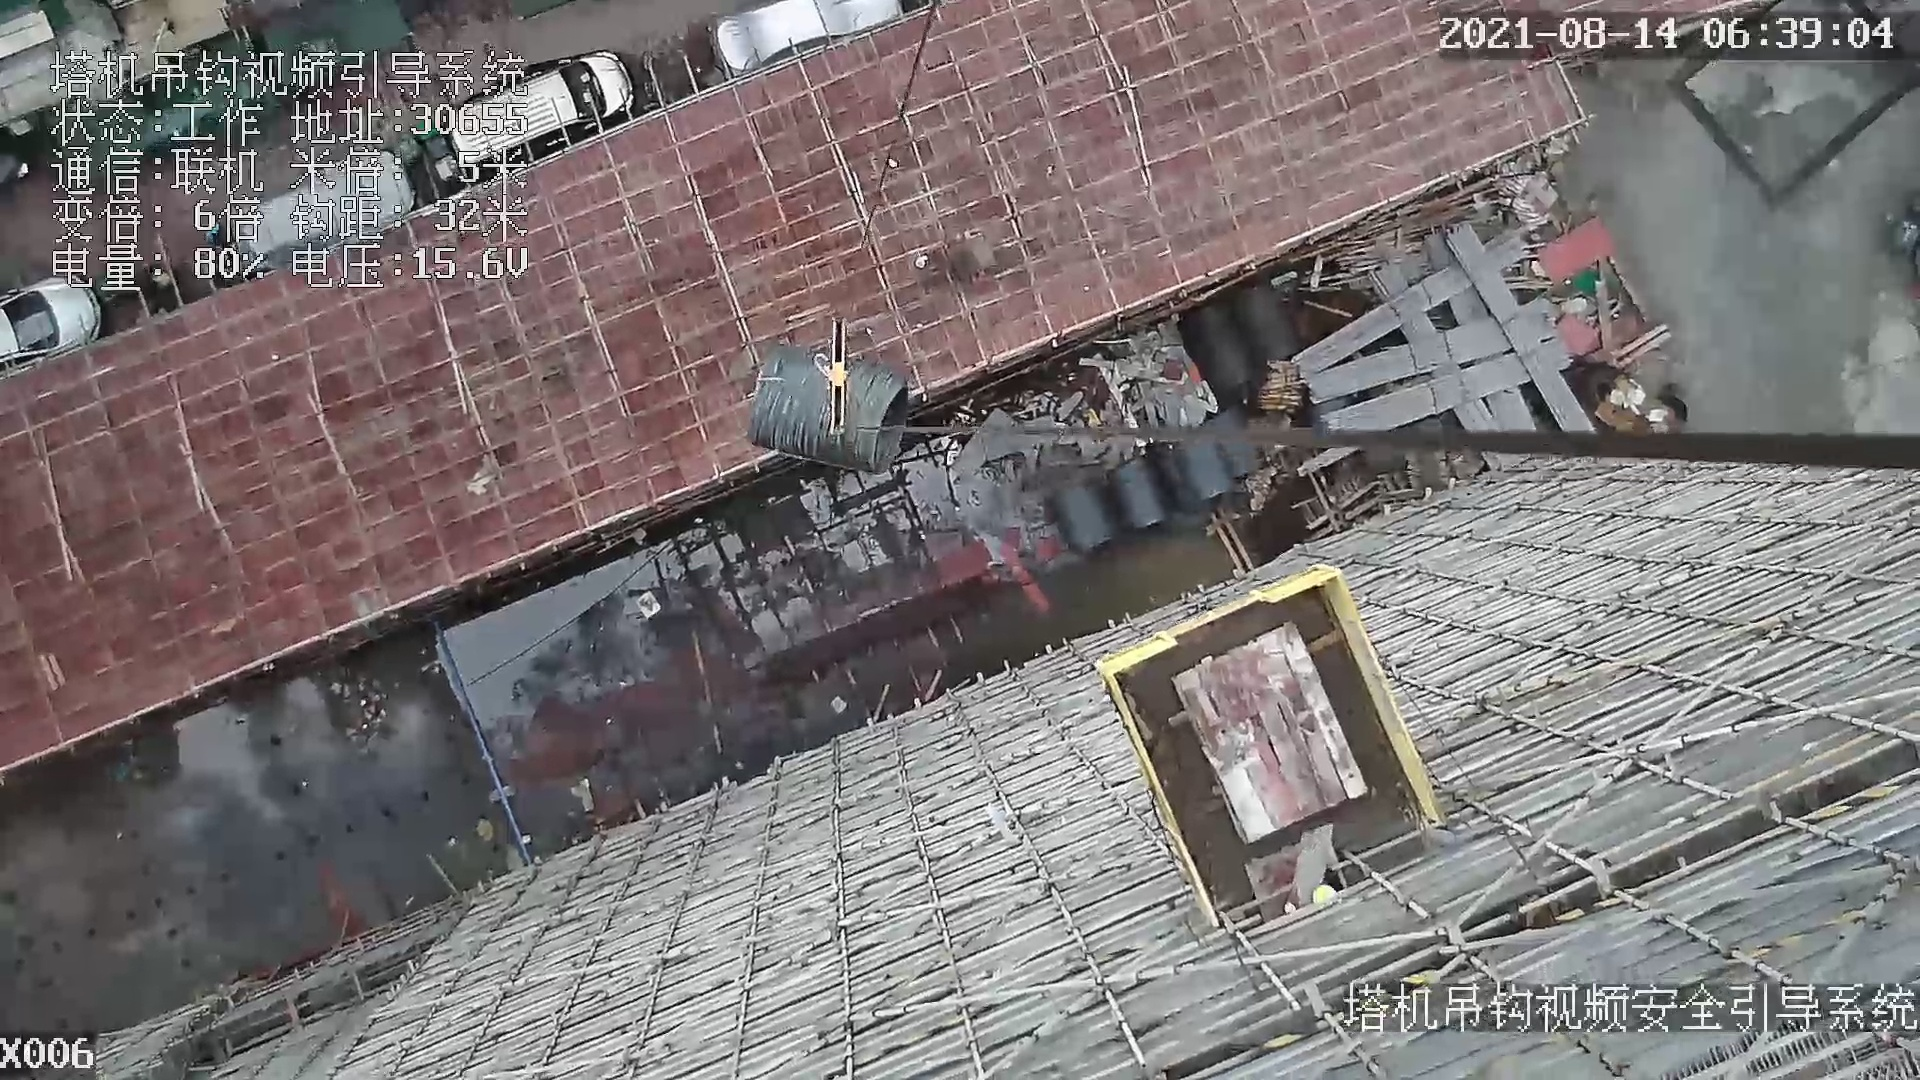hook: (804, 313, 855, 440)
